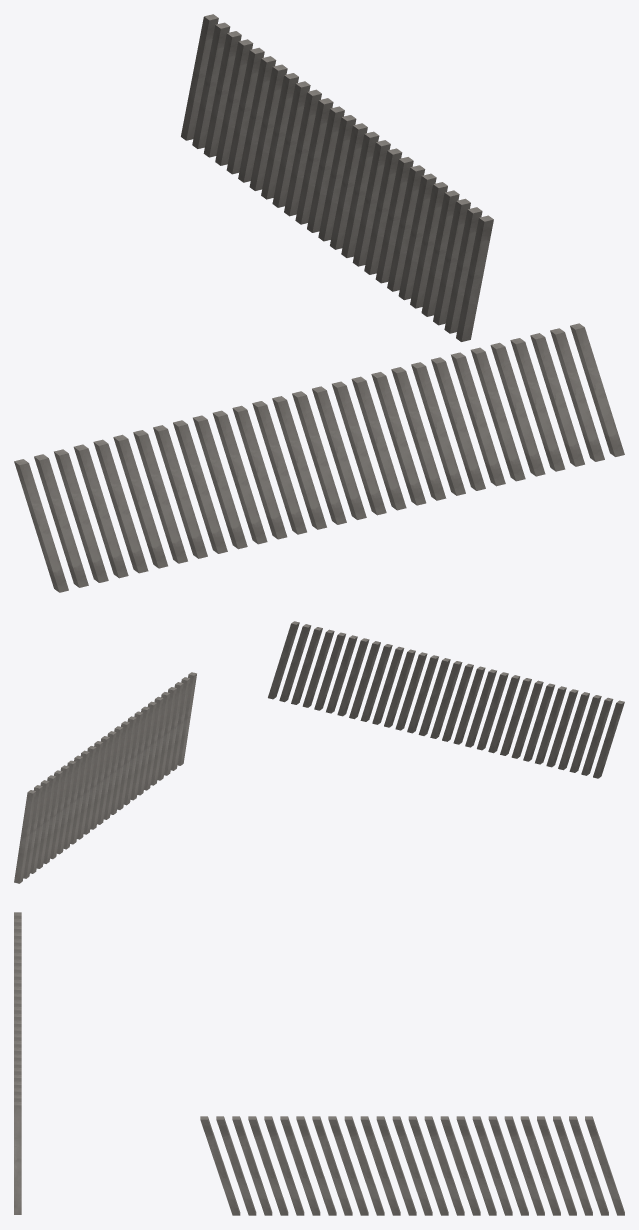
Rendered from MESH_MainLevelWallGeometry.fbx.
3 views of the same model, one above another, from view 1: azimuth 30°, elevation 25°; view 2: azimuth 150°, elevation 25°; view 3: azimuth 270°, elevation 25° (orthographic). The views are drawn at different scales.
Visible parts, largest first — view 1: Cube.002, Cube.012; view 2: Cube.002, Cube.012; view 3: Cube.012, Cube.002.
Boxes of the visible parts, x1,y1,x2,y2 form: Cube.002: (14,323,624,592); Cube.012: (181,14,493,341); Cube.002: (268,621,624,778); Cube.012: (14,672,196,883); Cube.012: (200,1116,624,1215); Cube.002: (14,912,21,1214).
Size of the model in its own units: 2532 by 547 by 3153.
